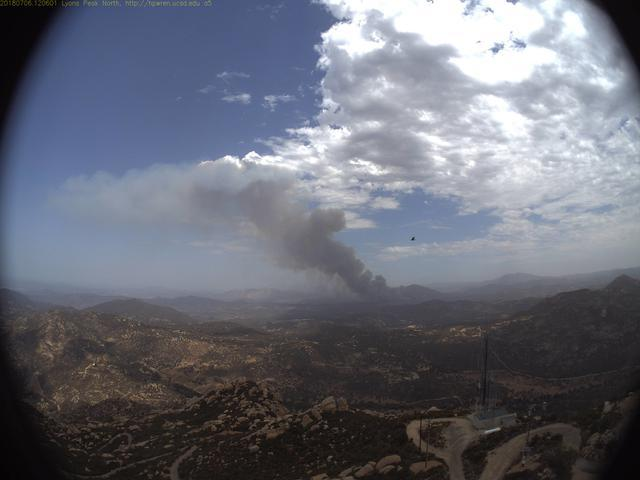smoke: (124, 164, 417, 326)
